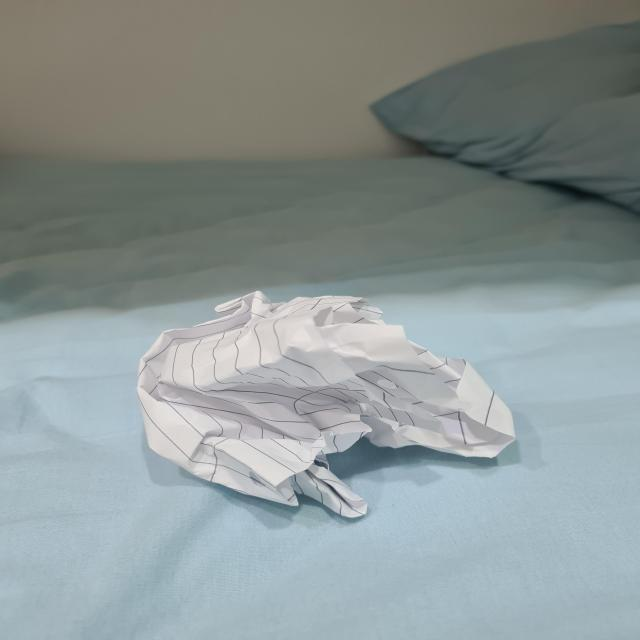trash: (142, 294, 528, 516)
